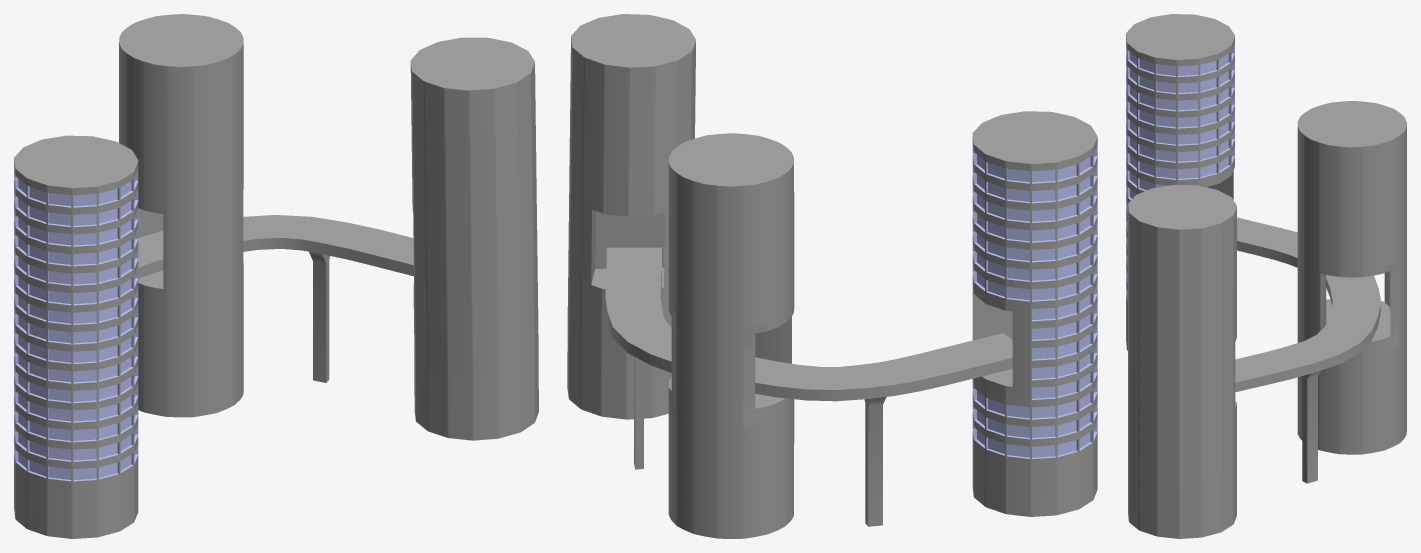
Rendered from tesuto01.fbx.
3 renders of one model, left to right at view 1: azimuth 30°, elevation 25°; view 2: azimuth 150°, elevation 25°; view 3: azimuth 270°, elevation 25°, orthographic. The views are drawn at different scales.
Visible parts, largest first — view 1: polySurface3, polySurface5, polySurface4, pCube7, pCube12; view 2: polySurface4, polySurface3, polySurface5, pCube7, pCube11, pCube12; view 3: polySurface5, polySurface4, polySurface3, pCube7, pCube12.
Part boxes in pixels (x1,y1,x2,y2): polySurface3: (14, 135, 138, 538); polySurface5: (410, 37, 538, 440); polySurface4: (119, 14, 243, 417); pCube7: (138, 215, 413, 278); pCube12: (309, 252, 329, 382); polySurface4: (668, 133, 794, 538); polySurface3: (972, 111, 1097, 516); polySurface5: (567, 14, 695, 419); pCube7: (605, 247, 1012, 401); pCube11: (864, 397, 886, 526); pCube12: (634, 356, 643, 469); polySurface5: (1128, 185, 1236, 538); polySurface4: (1297, 101, 1406, 454); polySurface3: (1126, 14, 1234, 350); pCube7: (1235, 217, 1380, 392); pCube12: (1302, 370, 1321, 483).
Size of the model in its own units: 58.7 by 38.8 by 31.96.
